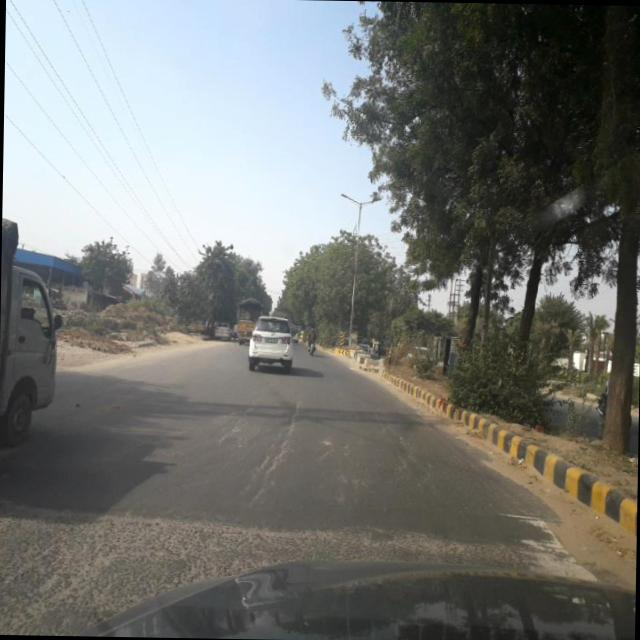pothole: (239, 378, 310, 520)
